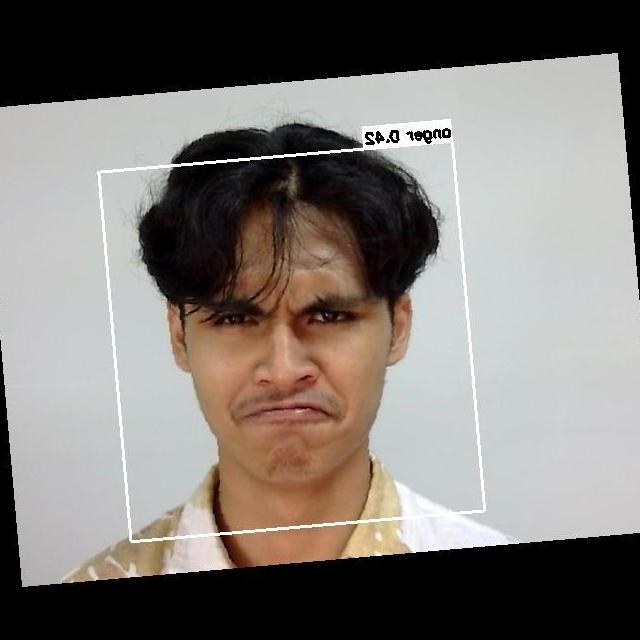Sad: (176, 263, 407, 460)
